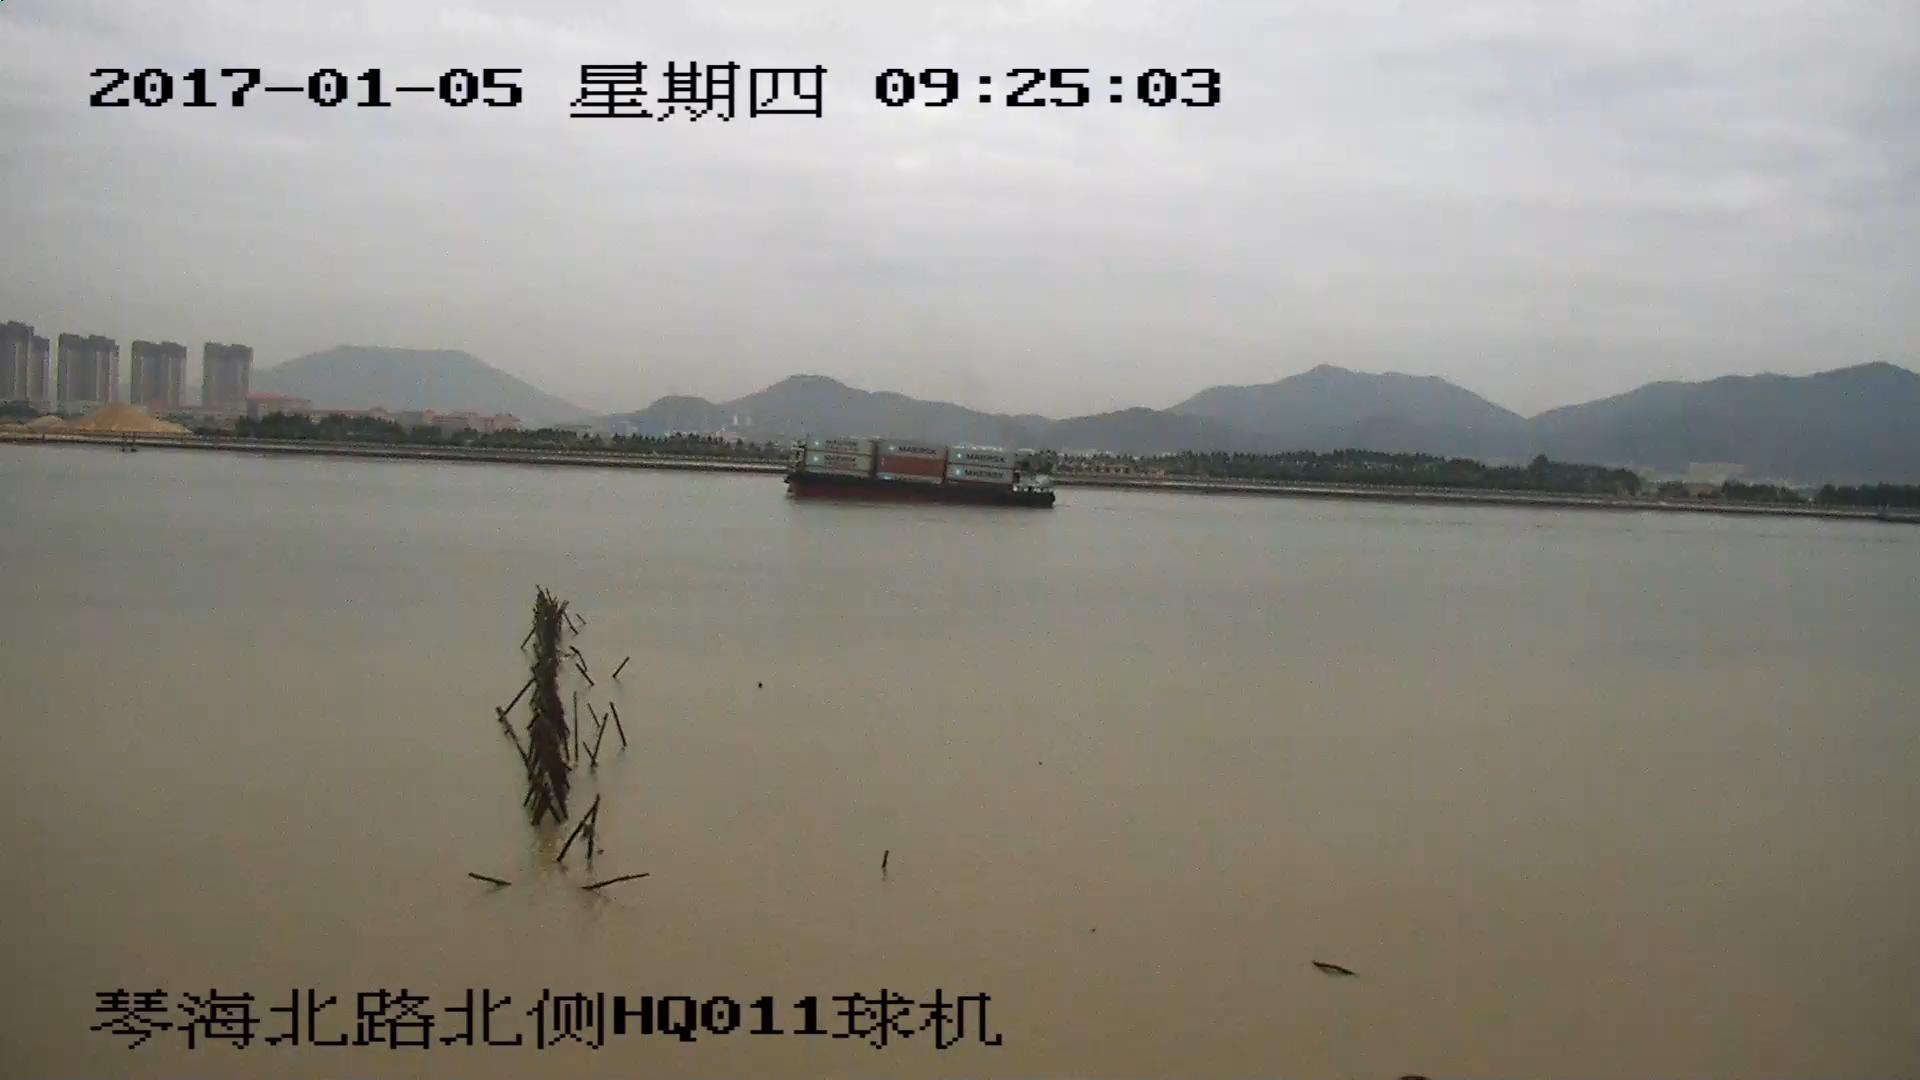Ship: (786, 436, 1054, 504)
